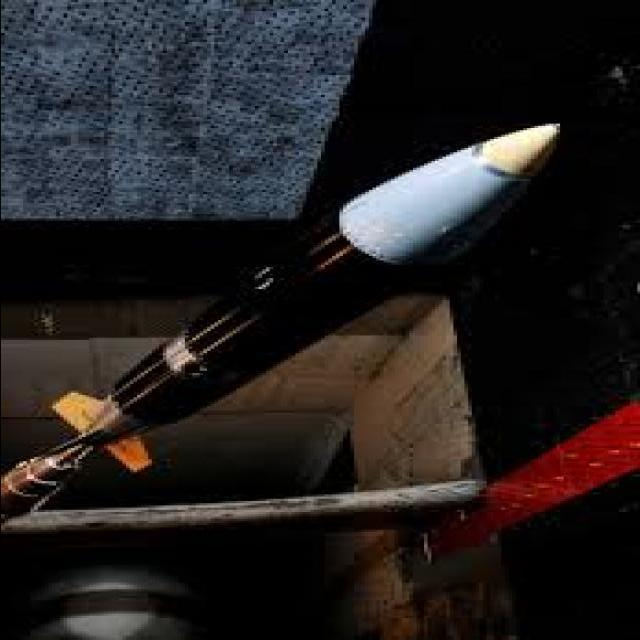missile: (0, 114, 573, 503)
